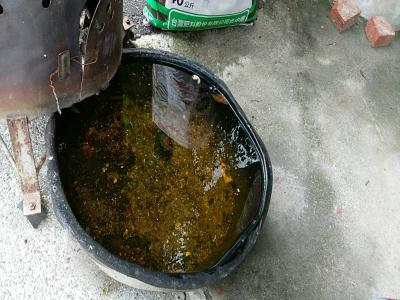bowl: (39, 42, 275, 293)
